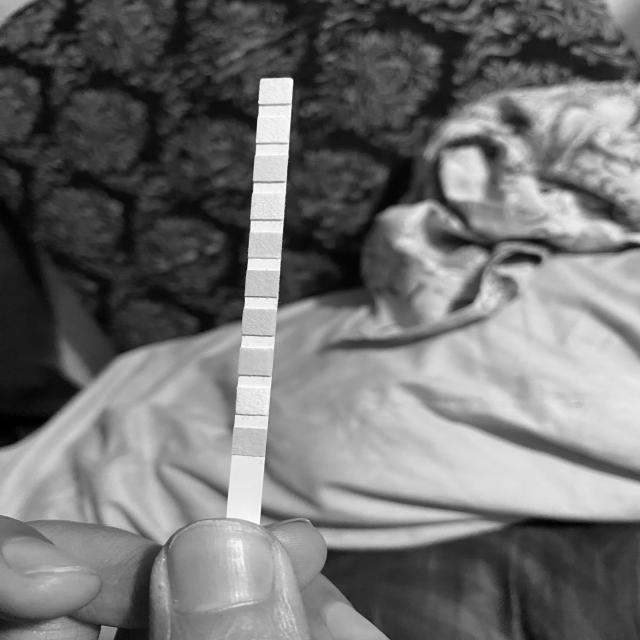Bilirubin: (237, 388, 268, 414)
Blood: (247, 271, 278, 296)
Glucose: (234, 429, 265, 454)
Ketone: (240, 349, 272, 375)
Leukocytes: (261, 79, 292, 103)
Nitrite: (258, 118, 288, 142)
Protein: (252, 194, 284, 219)
SpGravity: (243, 310, 276, 334)
Urobilinogen: (255, 156, 286, 181)
background: (0, 0, 640, 640)
pH: (250, 233, 281, 258)
strip: (227, 78, 293, 516)
